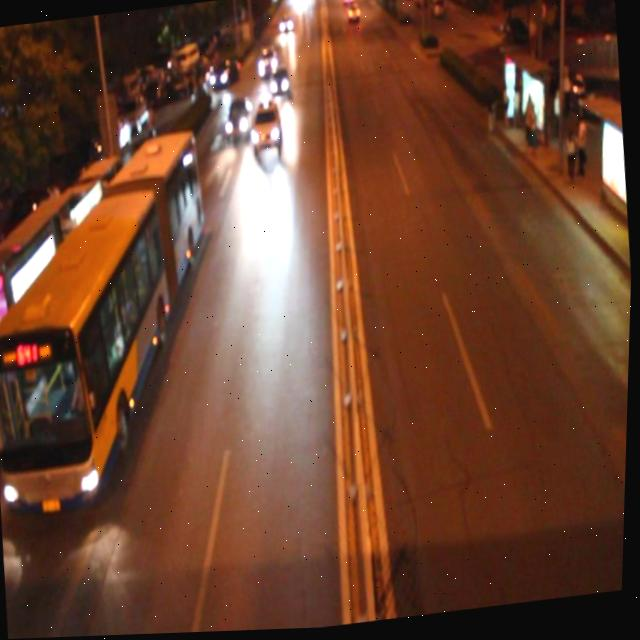car: (248, 103, 283, 156), (223, 95, 254, 142), (254, 45, 280, 83), (267, 65, 292, 102)
van: (0, 130, 226, 515)
